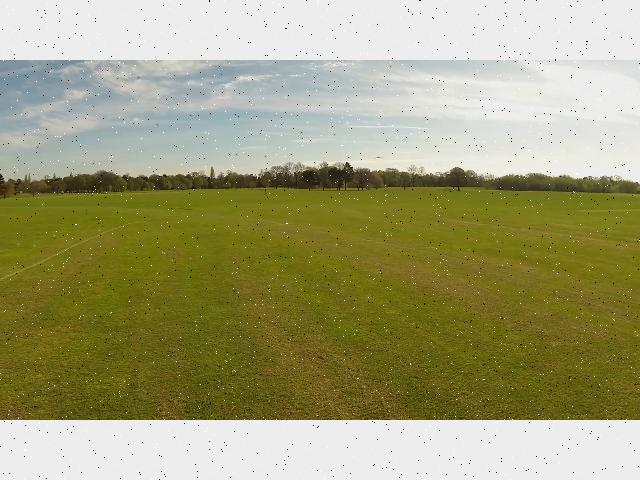Anti-Drone: (370, 154, 388, 164)
